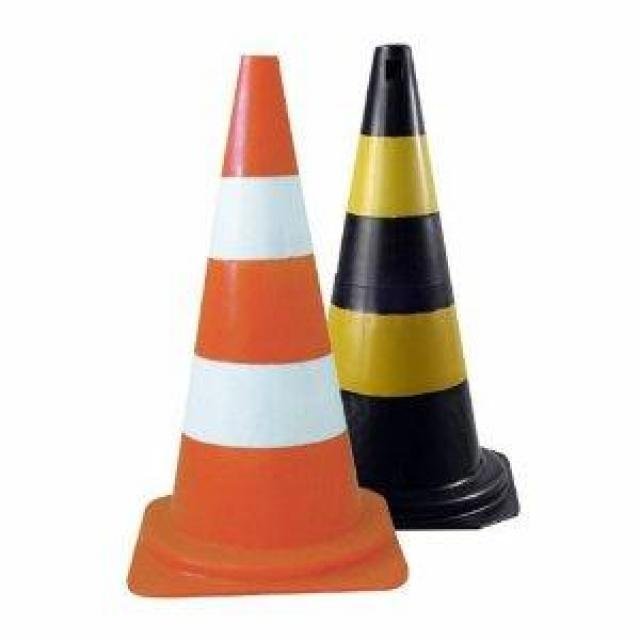cone: (131, 69, 431, 592), (312, 39, 504, 540)
